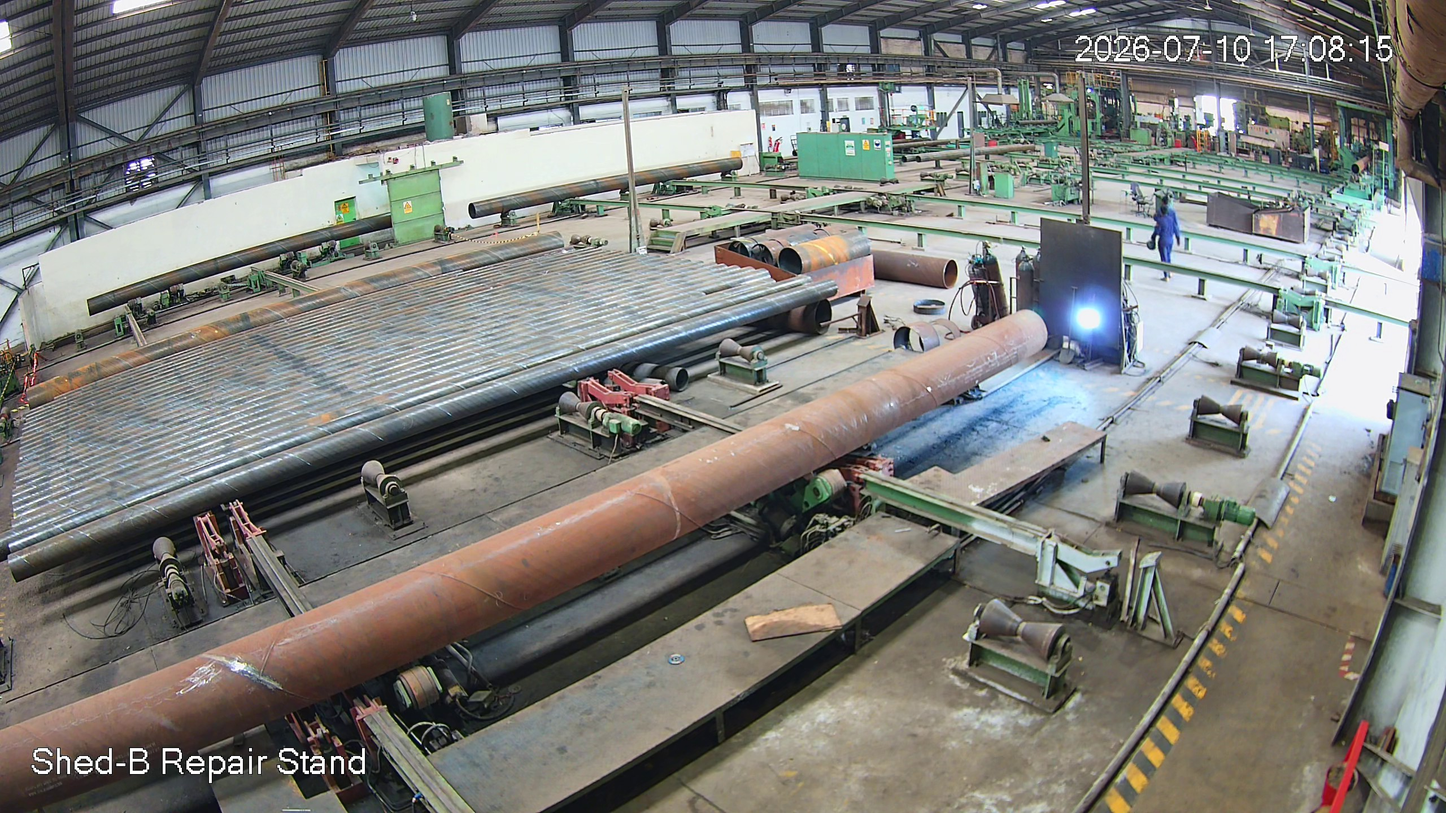Person: (1150, 196, 1184, 281)
